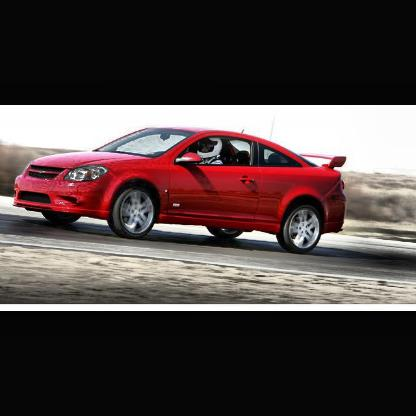Chevrolet Cobalt SS 2010: (13, 126, 350, 256)
